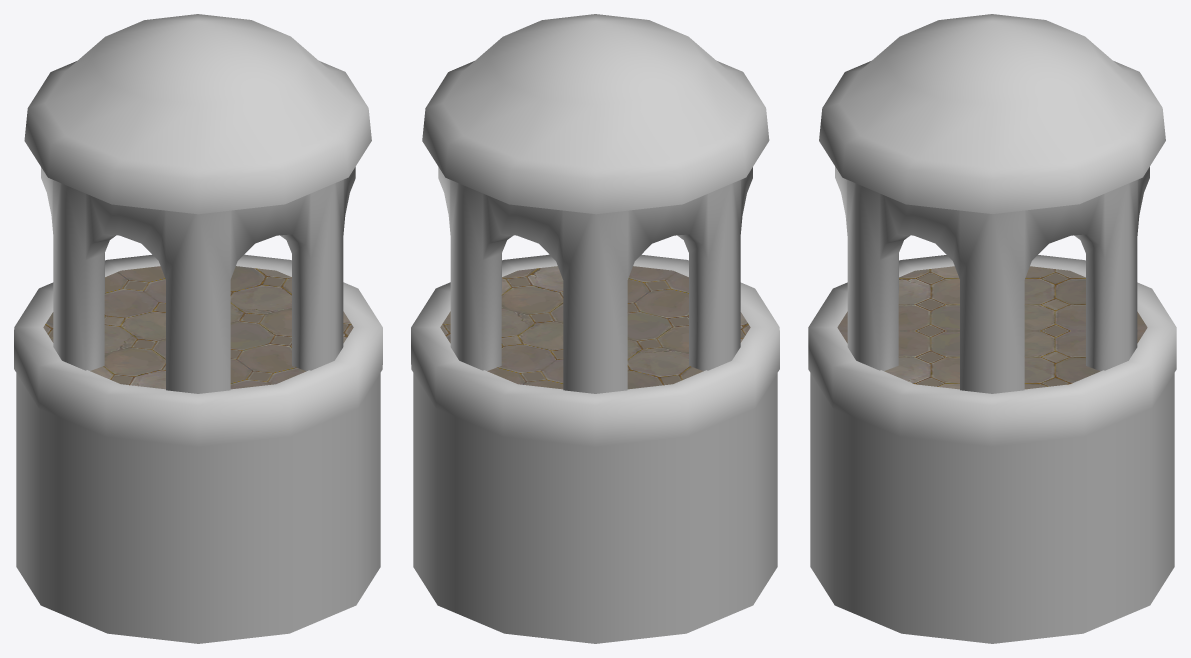
3 renders of one model, left to right at view 1: azimuth 30°, elevation 25°; view 2: azimuth 150°, elevation 25°; view 3: azimuth 270°, elevation 25°, orthographic.
Visible parts, largest first — view 1: t_ta_qiang, t_ta_dimian; view 2: t_ta_qiang, t_ta_dimian; view 3: t_ta_qiang, t_ta_dimian.
Boxes of the visible parts, left/top/right/bottom form: t_ta_qiang: left=14, top=14, right=382, bottom=643; t_ta_dimian: left=43, top=266, right=353, bottom=389; t_ta_qiang: left=411, top=14, right=779, bottom=643; t_ta_dimian: left=440, top=266, right=750, bottom=389; t_ta_qiang: left=808, top=14, right=1176, bottom=643; t_ta_dimian: left=837, top=266, right=1147, bottom=389.
Bounding box in the file's own units: 898 × 1466 × 897.
